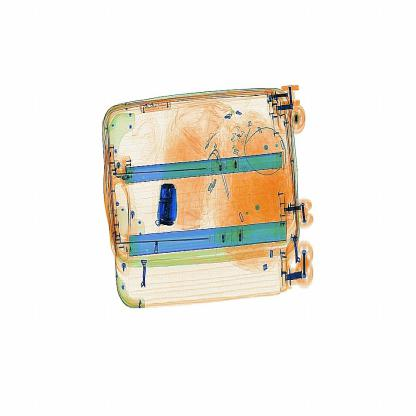scissors: (150, 170, 194, 235)
